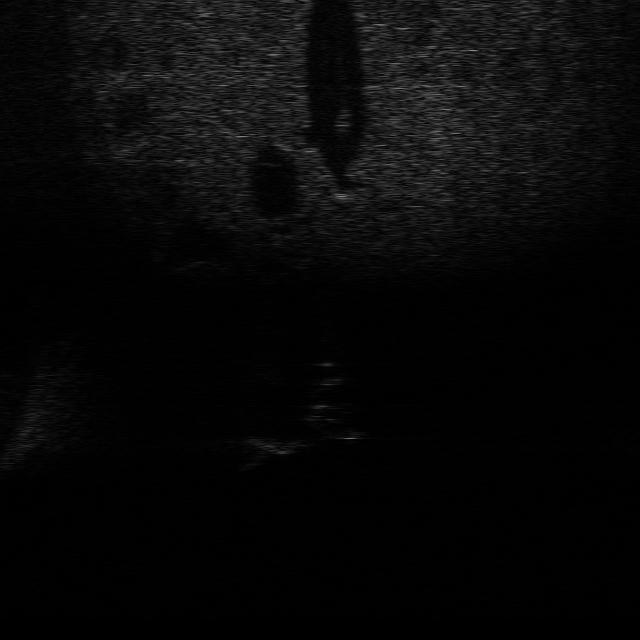ball: (300, 355, 349, 387)
square cage: (230, 432, 309, 466)
tyre: (298, 401, 370, 442)
